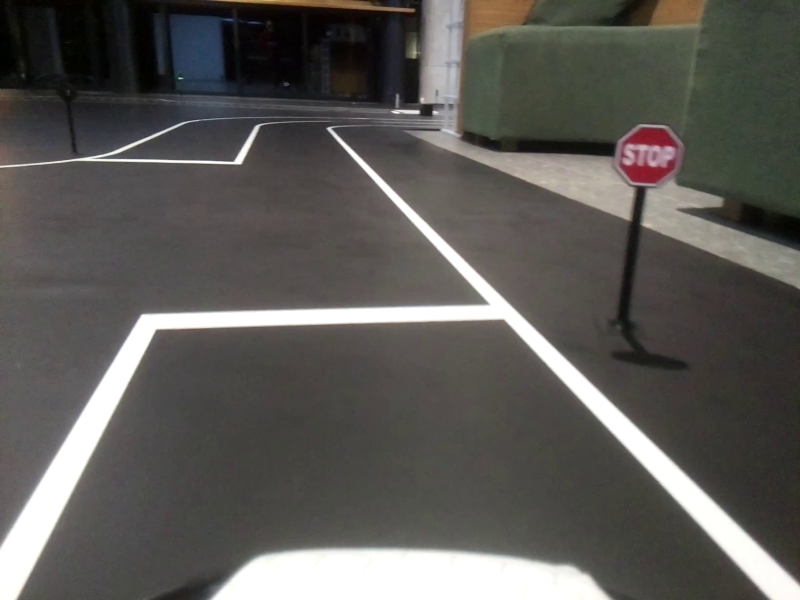stop: (615, 121, 684, 188)
